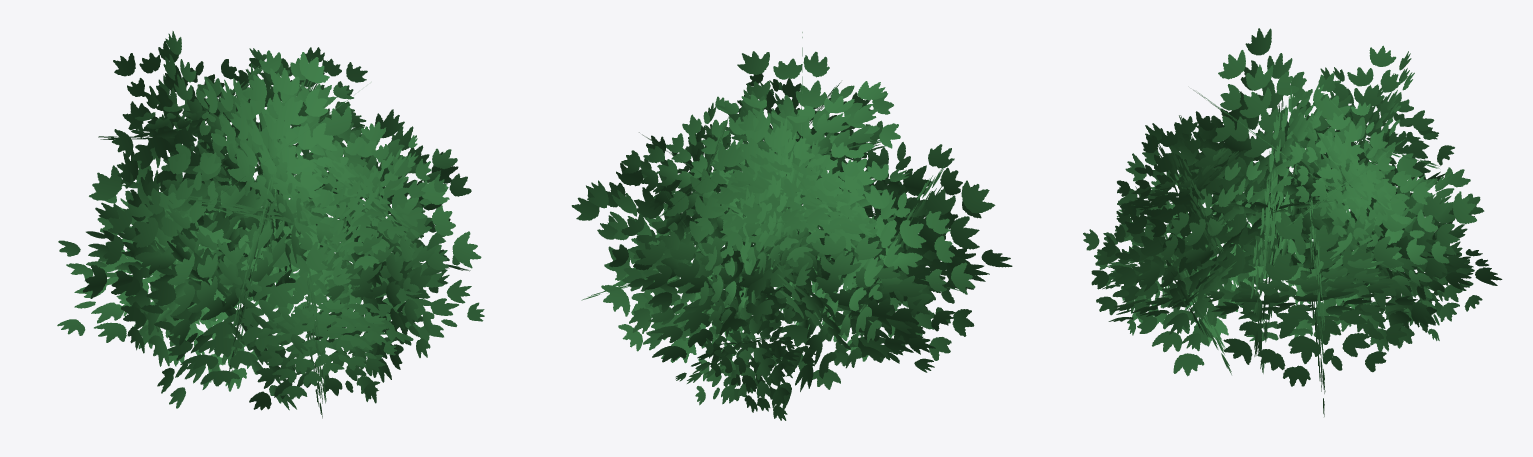
Rendered from SM_Bush1.glb.
3 views of the same model, side by side, from view 1: azimuth 30°, elevation 25°; view 2: azimuth 150°, elevation 25°; view 3: azimuth 270°, elevation 25° (orthographic). The views are drawn at different scales.
Visible parts, largest first — view 1: SM_Bush1; view 2: SM_Bush1; view 3: SM_Bush1.
Boxes of the visible parts, x1,y1,x2,y2 form: SM_Bush1: (57, 31, 484, 418); SM_Bush1: (571, 32, 1012, 420); SM_Bush1: (1083, 28, 1502, 416).
Size of the model in its own units: 2.65 by 2.14 by 2.57.
1 material, 1 textured.
